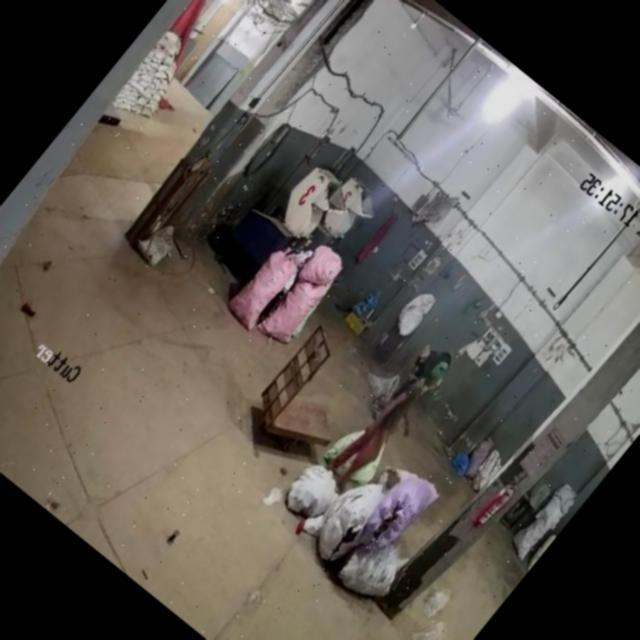person: (323, 336, 462, 494)
